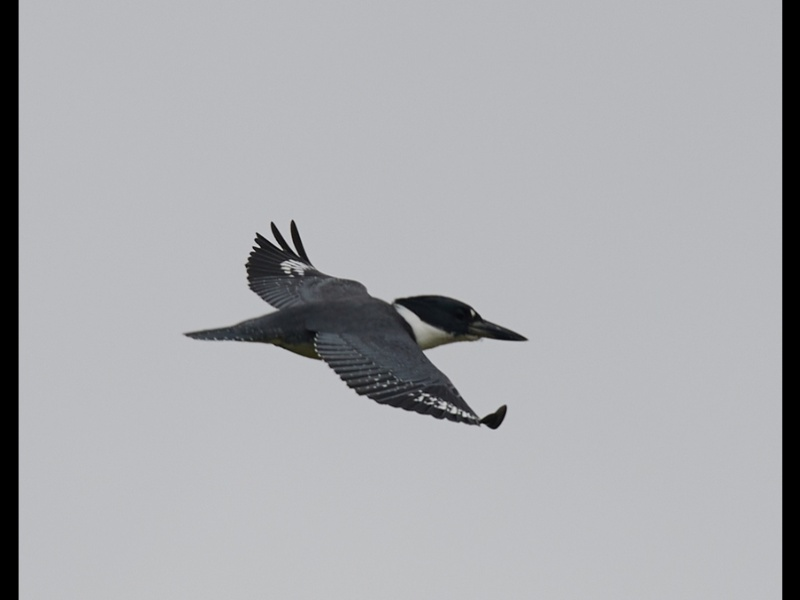kingfisher: (179, 217, 529, 435)
